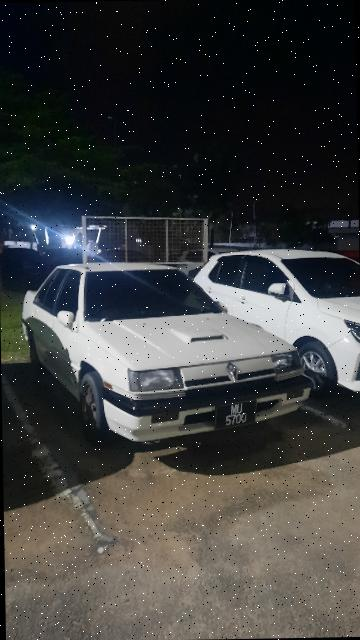License_Plate: (206, 386, 261, 437)
car: (23, 254, 312, 443), (183, 249, 360, 400)
